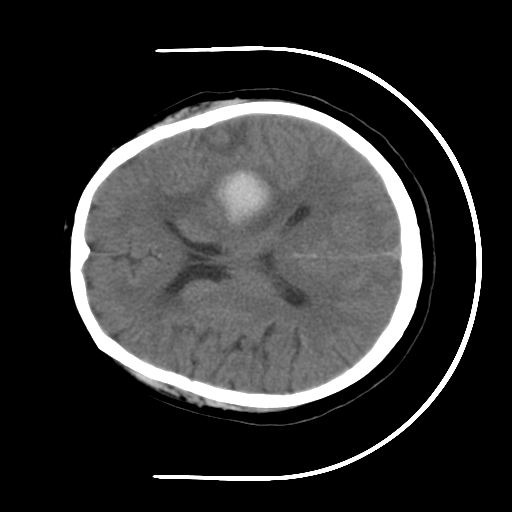a: (196, 153, 300, 245)
